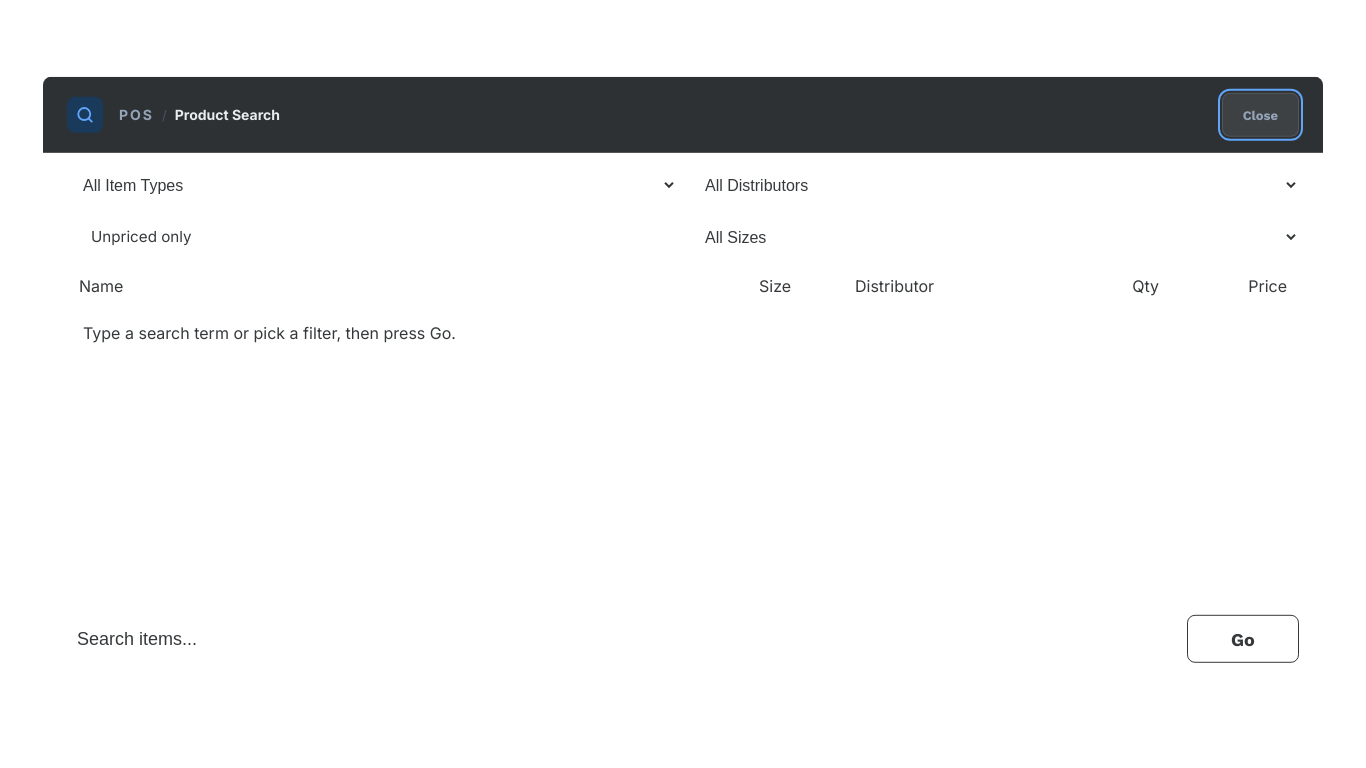
SearchModal › deselects item when clicking the same row again
Type "cab" into the field with placeholder "Search items..." at {"x": 623, "y": 639}, box [67,615,1179,663]
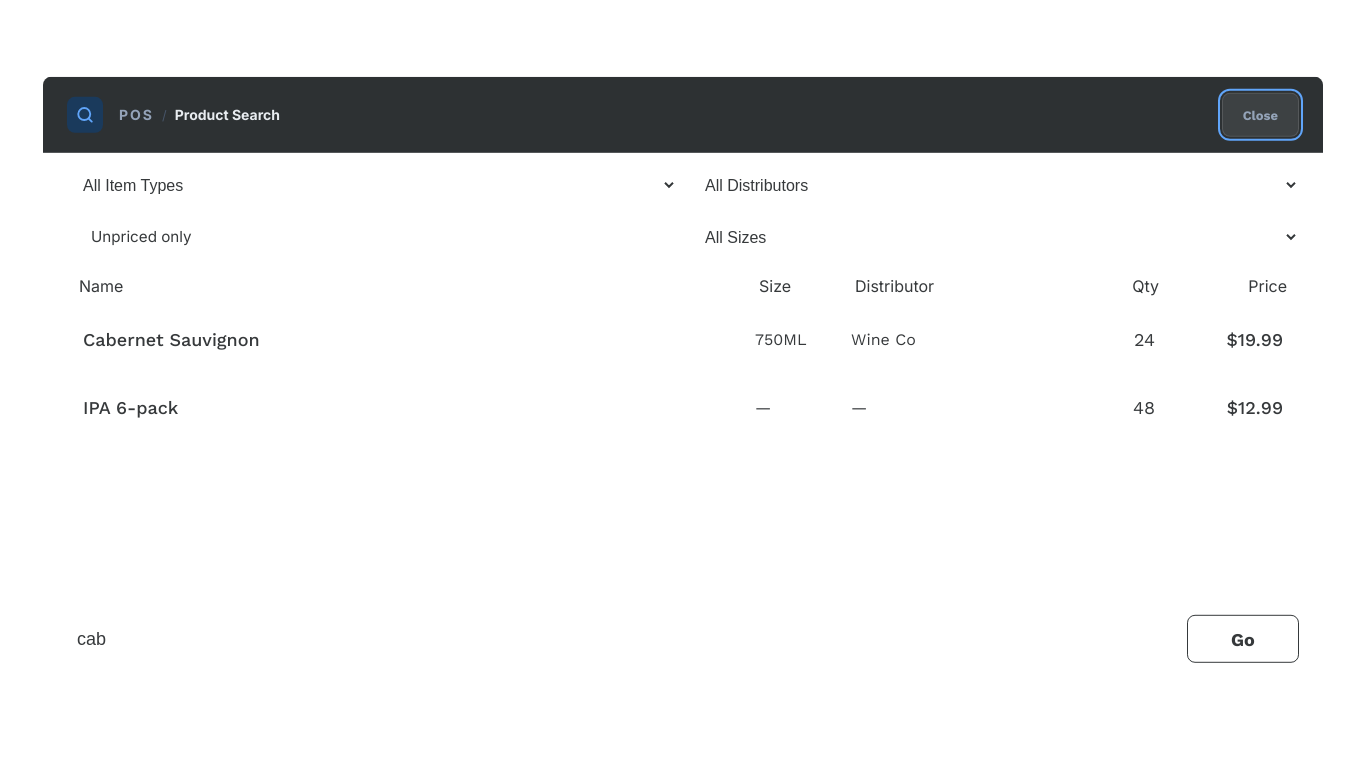
Click the button "Go" at {"x": 1243, "y": 639}, box [1187,615,1299,663]
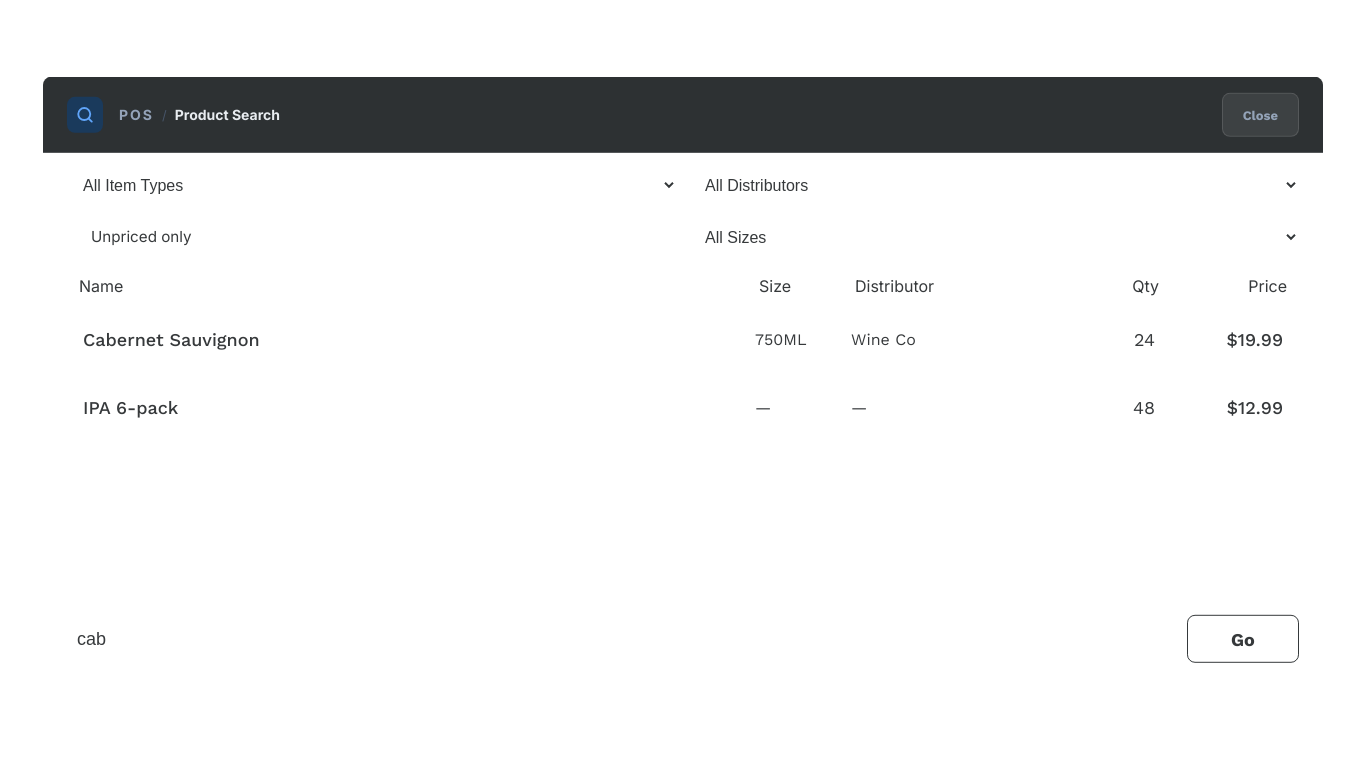
Check: the text "Cabernet Sauvignon" is shown, box [83,328,260,349]
Click the button with test id "search-result-1" at {"x": 171, "y": 339}, box [67,305,1299,373]
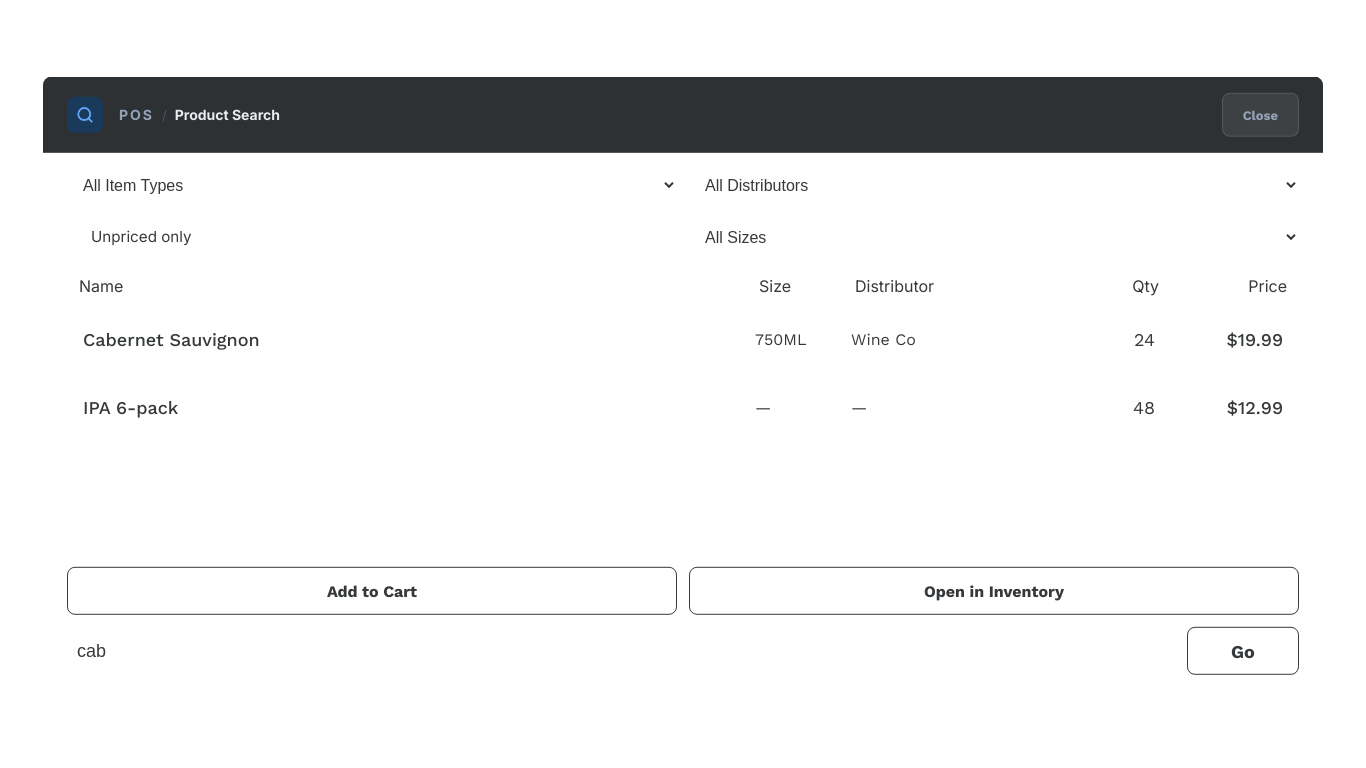
Check: the button "Add to Cart" is shown, box [67,567,677,615]
Click the button with test id "search-result-1" at {"x": 171, "y": 339}, box [67,305,1299,373]
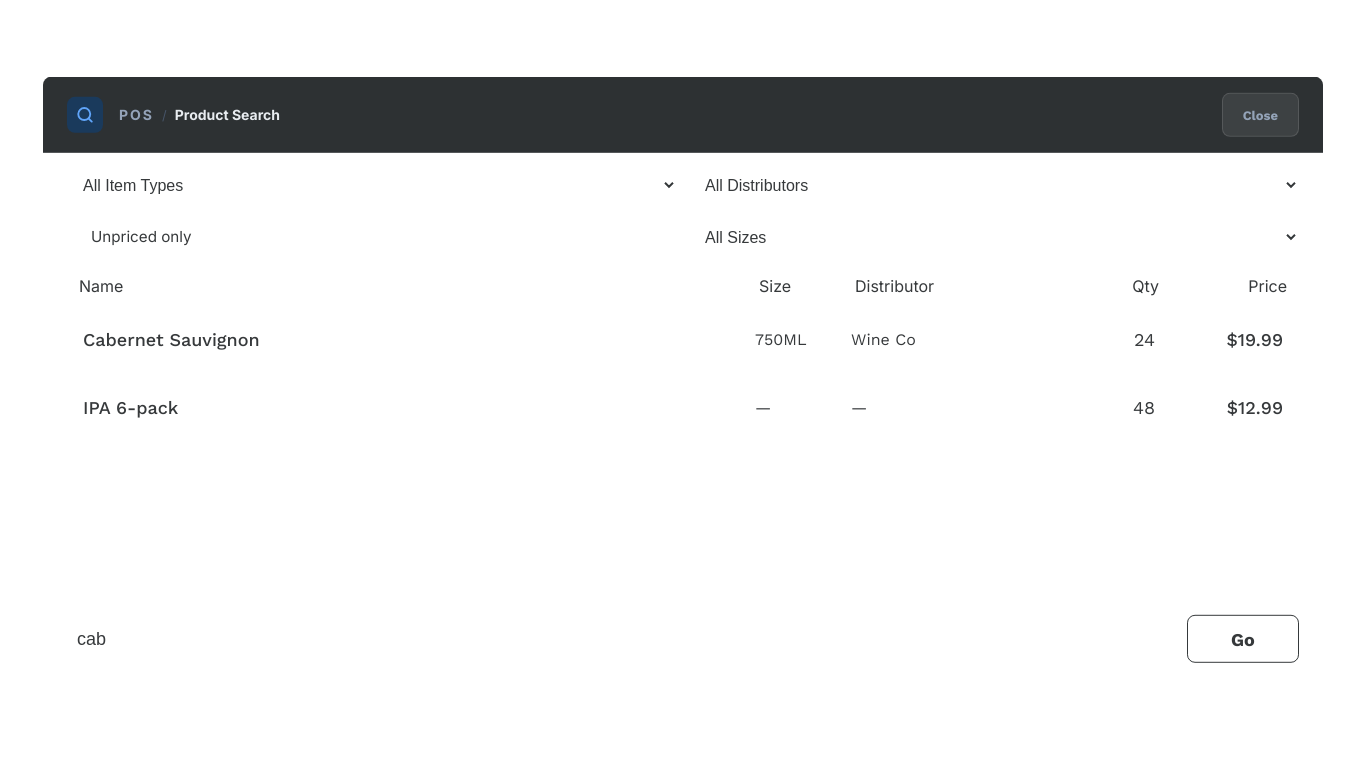
Check: the button "Add to Cart" is gone
